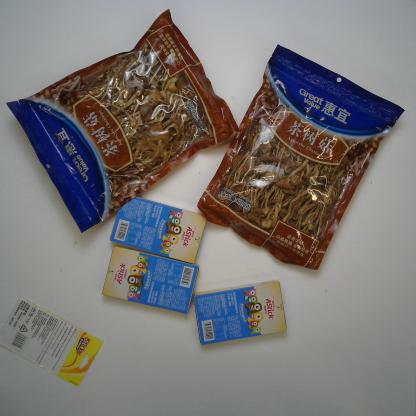Dessert: (101, 244, 202, 314), (108, 195, 207, 266), (192, 277, 290, 346)
Dried Food: (4, 6, 239, 234), (195, 41, 406, 274)
Stationery: (0, 294, 106, 390)
